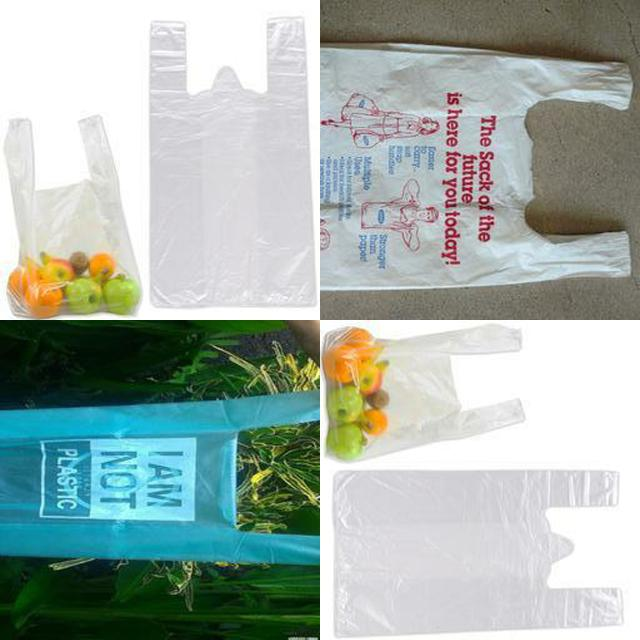Single-layer Plastic: (321, 45, 632, 290), (0, 391, 319, 565), (332, 470, 621, 636), (151, 18, 316, 308), (359, 324, 525, 458), (5, 115, 139, 280)
